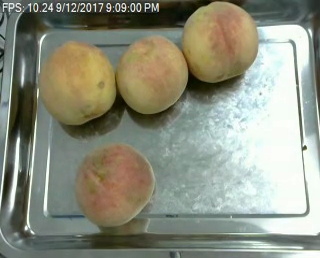Peach: (37, 38, 117, 126), (75, 141, 154, 228), (181, 2, 259, 82), (117, 35, 188, 113)
